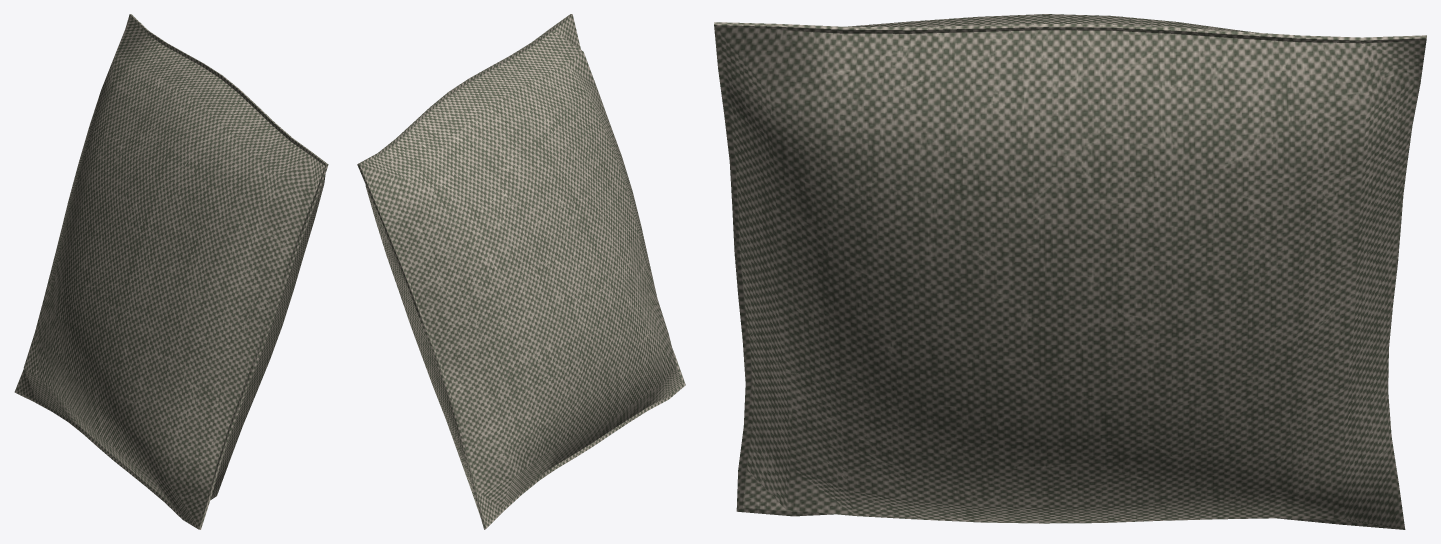
The model's file is Pillow3.fbx.
The picture shows the model from 3 angles, left to right: view 1: azimuth 30°, elevation 25°; view 2: azimuth 150°, elevation 25°; view 3: azimuth 270°, elevation 25°; orthographic projection. The views are drawn at different scales.
Parts seen in each view (by area): view 1: Pillow.005; view 2: Pillow.005; view 3: Pillow.005.
Part boxes in pixels (x1,y1,x2,y2): Pillow.005: (14,14,328,529); Pillow.005: (357,14,685,529); Pillow.005: (714,14,1426,529).
Size of the model in its own units: 29.05 by 56.4 by 60.08.
Materials: 1 (1 with a texture image).
